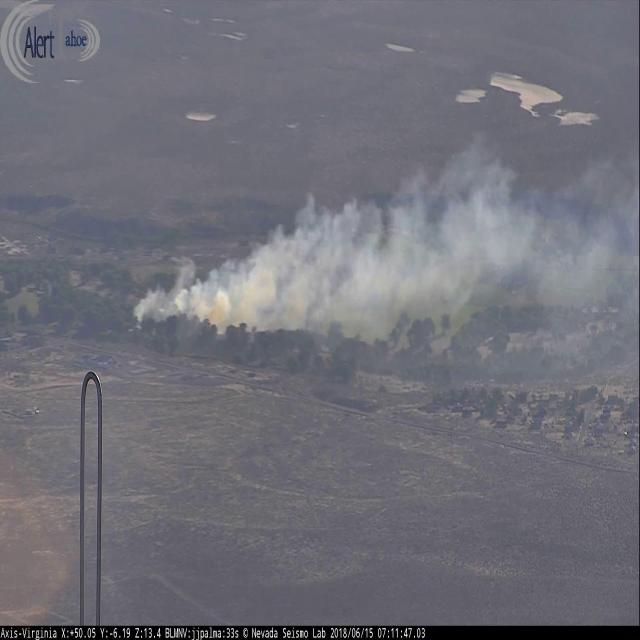smoke: (124, 121, 633, 340)
